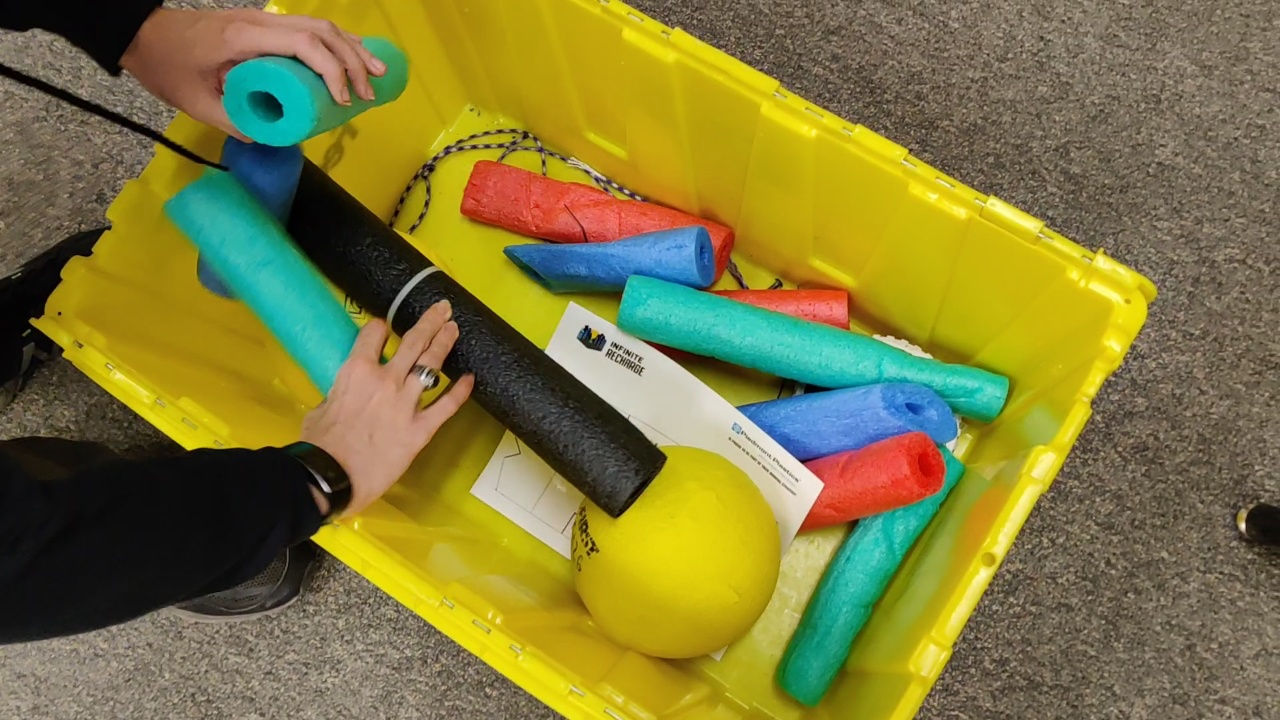Ball: (566, 446, 777, 664)
